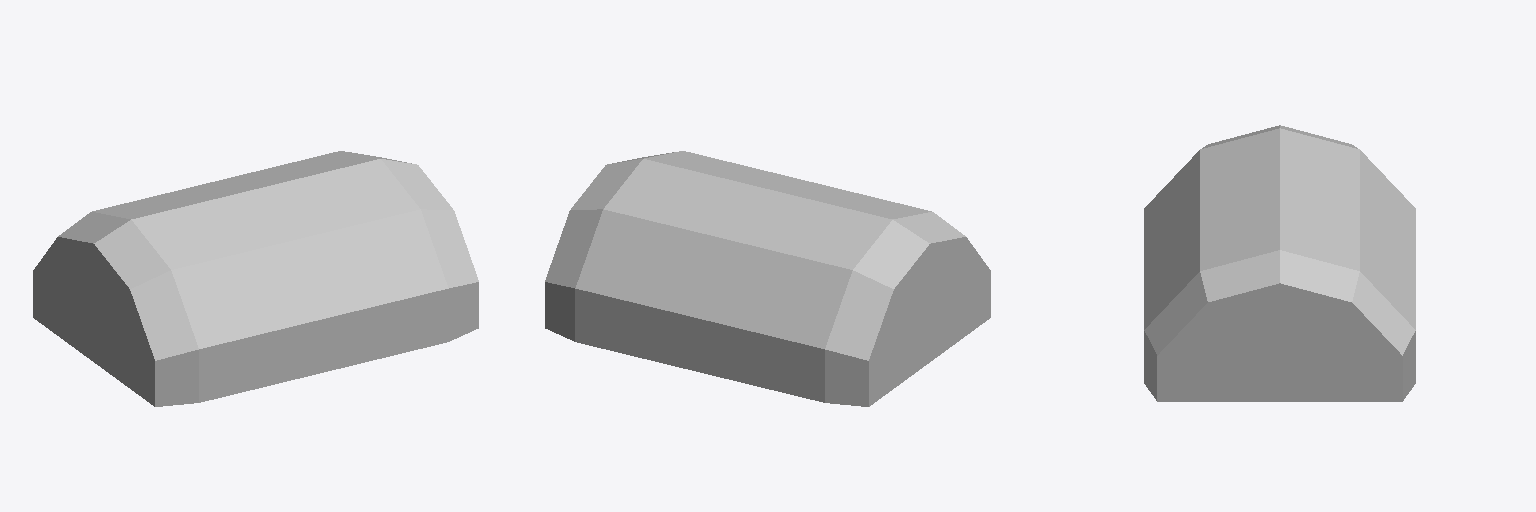
File: Treasure_Chest_lid_01.obj
3 views of the same model, side by side, from view 1: azimuth 30°, elevation 25°; view 2: azimuth 150°, elevation 25°; view 3: azimuth 270°, elevation 25° (orthographic).
Parts seen in each view (by area): view 1: Treasure_Chest_lid_01; view 2: Treasure_Chest_lid_01; view 3: Treasure_Chest_lid_01.
Boxes of the visible parts, x1=… form: Treasure_Chest_lid_01: x1=33, y1=151, x2=478, y2=406; Treasure_Chest_lid_01: x1=545, y1=151, x2=990, y2=406; Treasure_Chest_lid_01: x1=1144, y1=125, x2=1415, y2=401.
Bounding box in the file's own units: 0.8887 × 0.3505 × 0.6447.